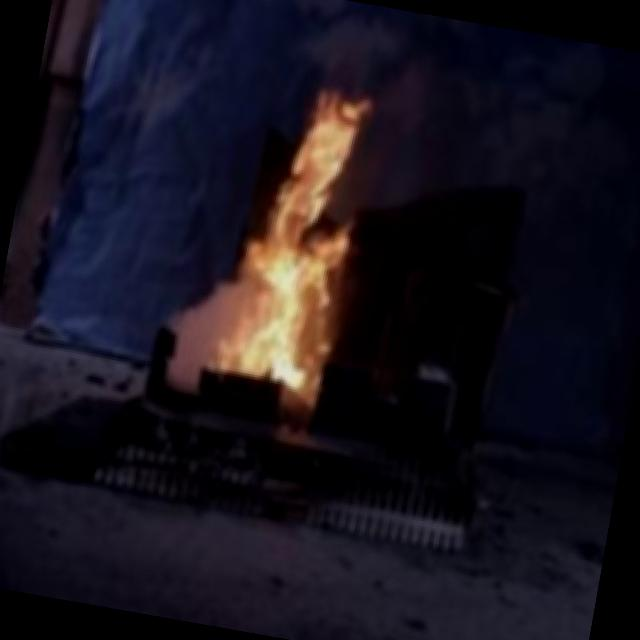fire: (176, 52, 402, 414)
